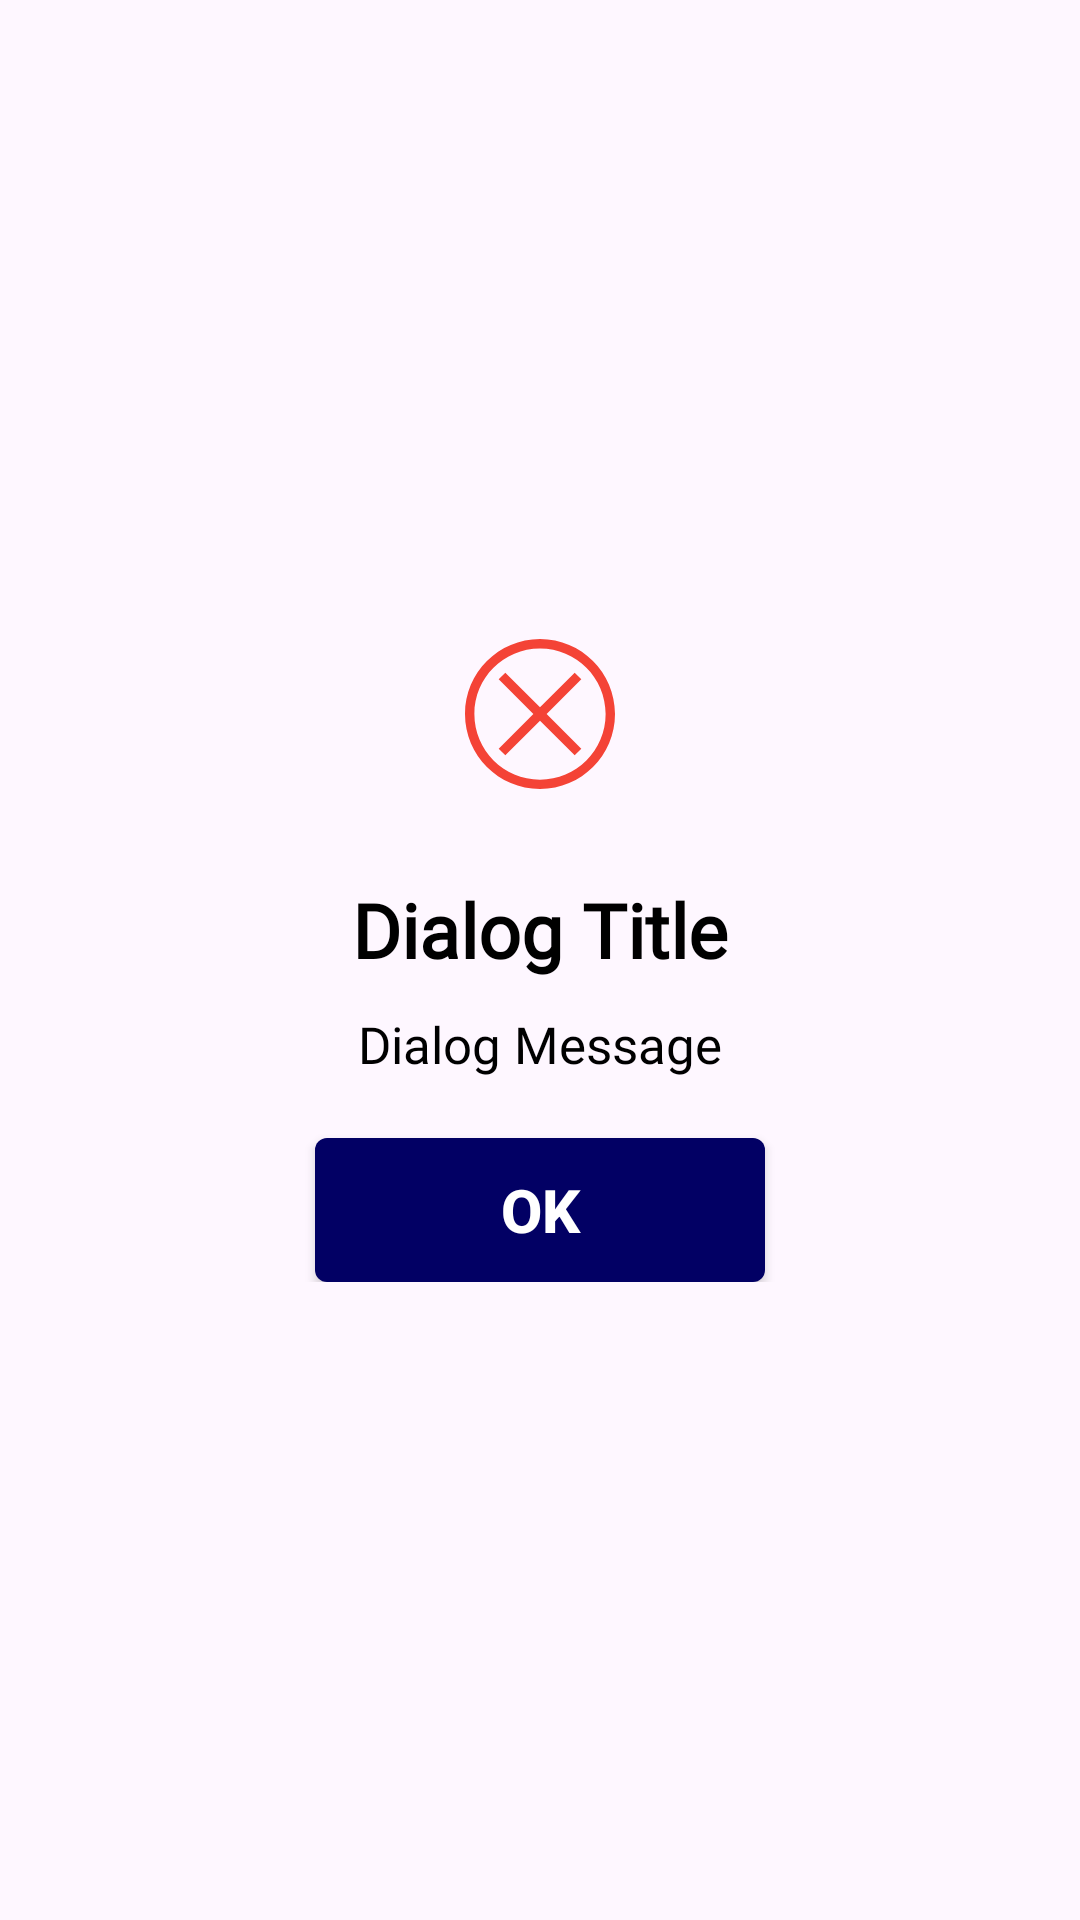

Icons on this 1080 x 1920 Android screen, each with its box as (x1, y1, x2, y2):
error: (465, 639, 615, 789)
